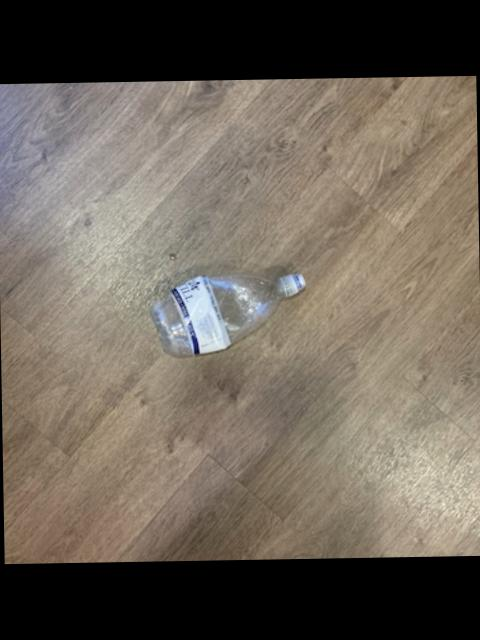plastic: (152, 273, 305, 355)
